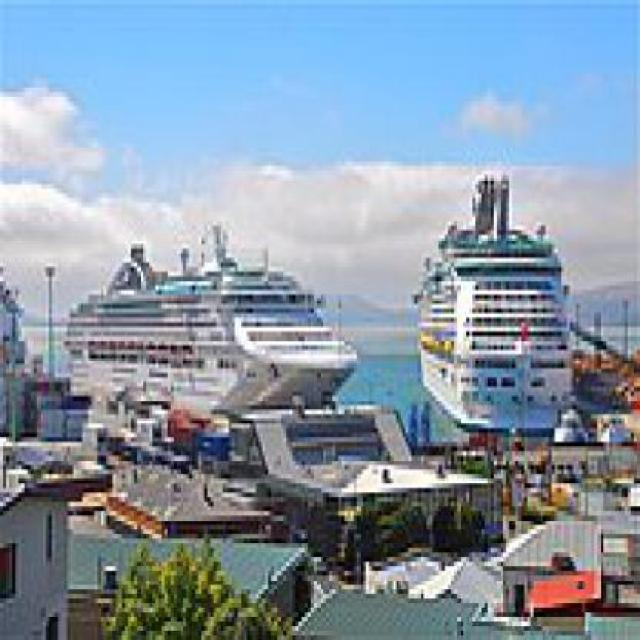cruise: (56, 209, 363, 424), (404, 157, 593, 439)
